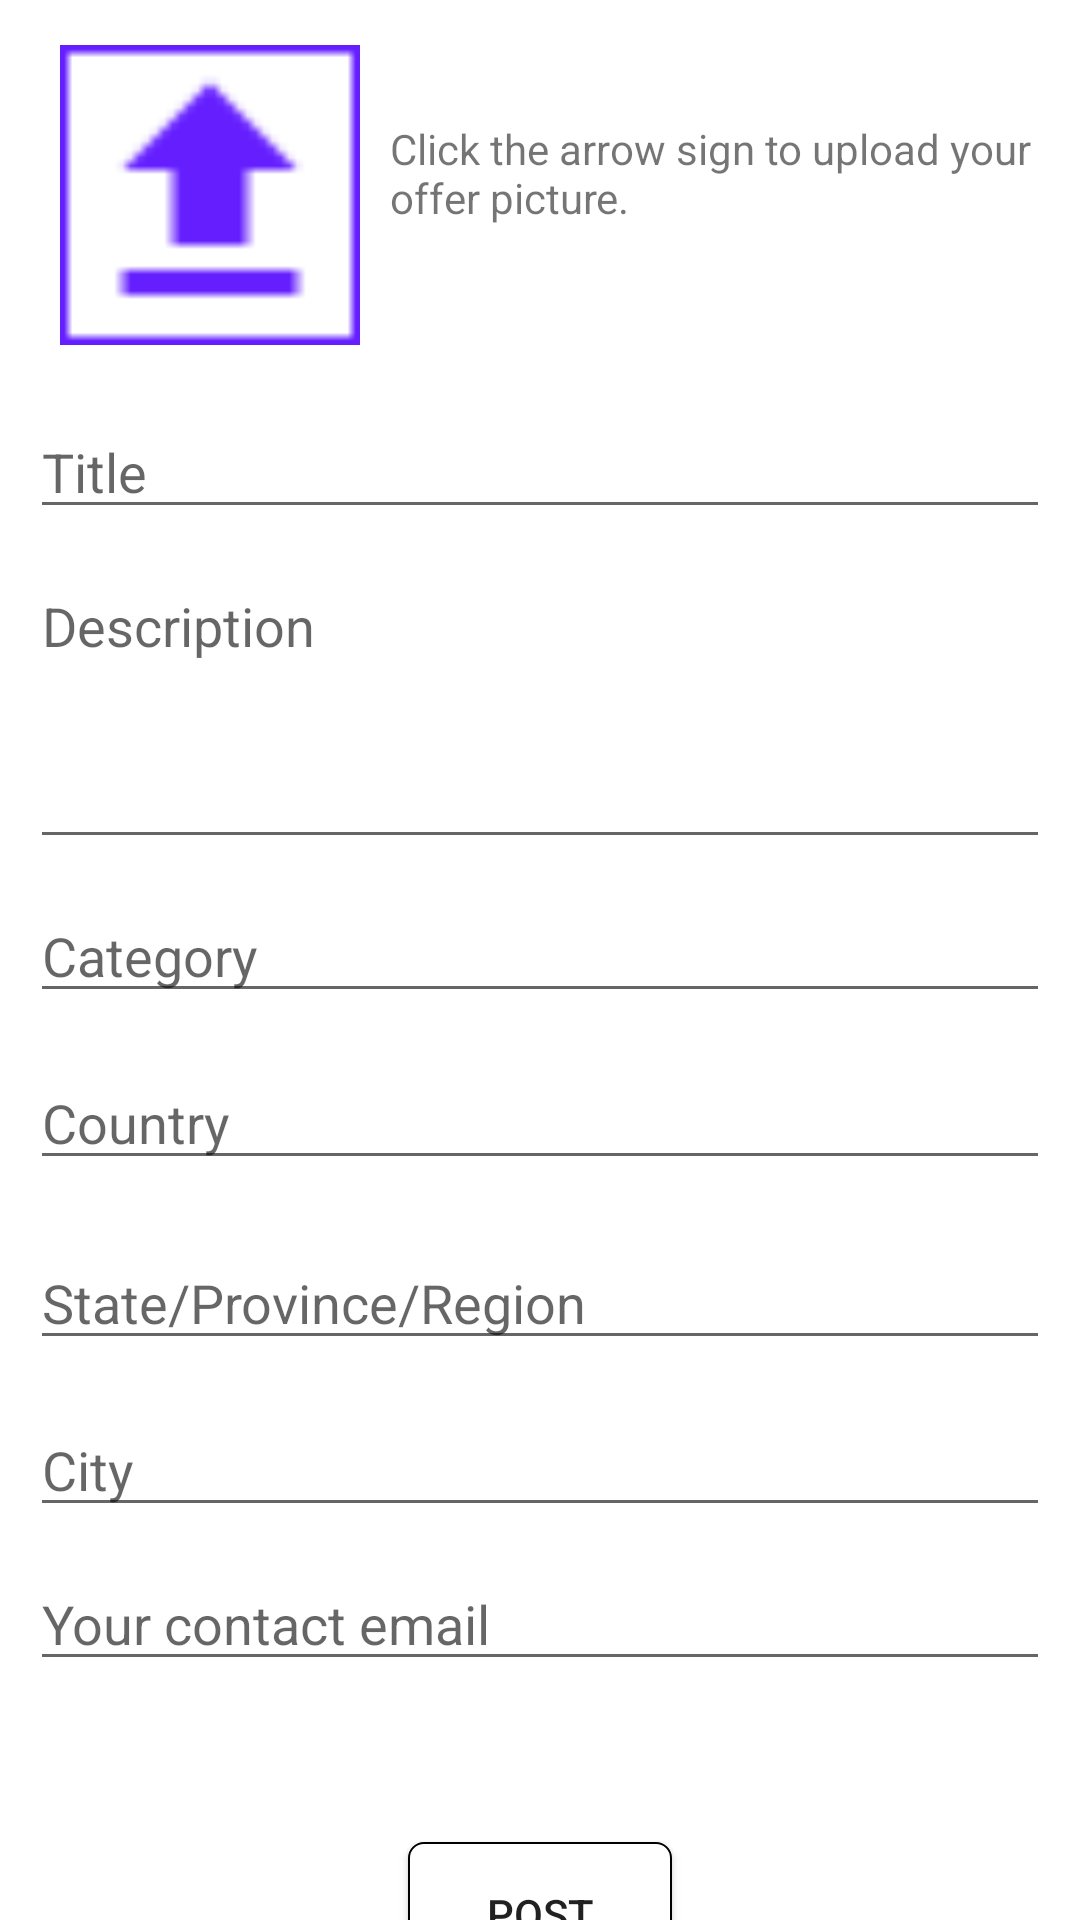

Named icons in this screenshot (1080×1920) and their centers, [x,y]:
upload imagee: [210,195]
